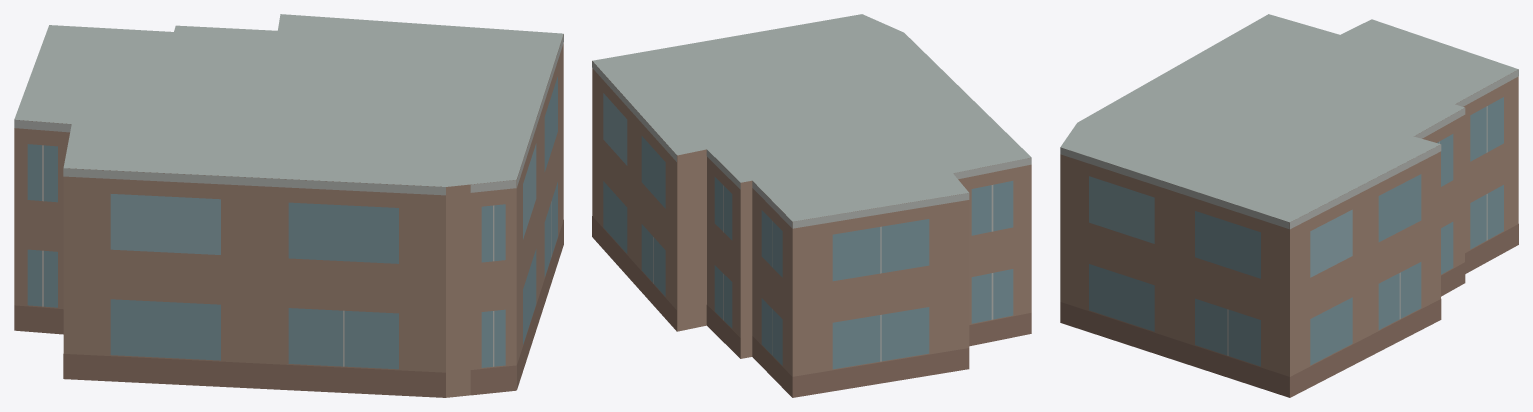
Rendered from survey-upis-32889225.glb.
3 renders of one model, left to right at view 1: azimuth 30°, elevation 25°; view 2: azimuth 150°, elevation 25°; view 3: azimuth 270°, elevation 25°, orthographic. The views are drawn at different scales.
Parts seen in each view (by area): view 1: survey-upis-32889225.tmp; view 2: survey-upis-32889225.tmp; view 3: survey-upis-32889225.tmp.
Part boxes in pixels (box(x1,y1,x2,y2)): survey-upis-32889225.tmp: box(14, 14, 563, 397); survey-upis-32889225.tmp: box(592, 14, 1031, 397); survey-upis-32889225.tmp: box(1060, 14, 1518, 397).
Bounding box in the file's own units: 15.54 × 6.1 × 14.45.
